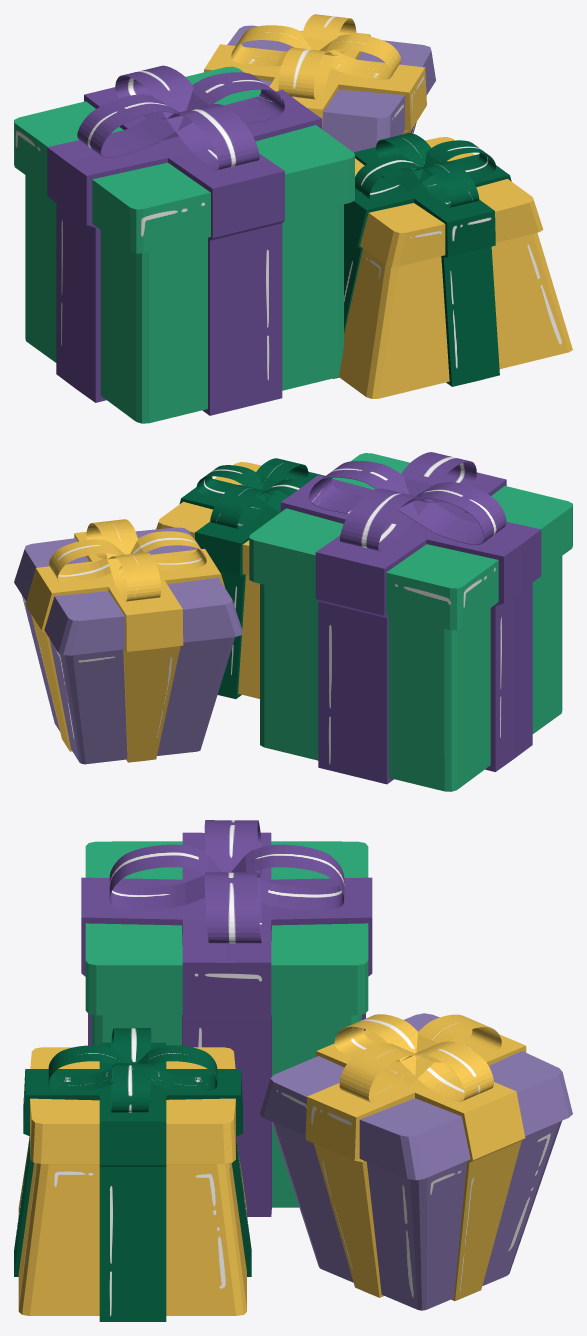
The model's file is scene6_gifts.glb.
3 views of the same model, one above another, from view 1: azimuth 30°, elevation 25°; view 2: azimuth 150°, elevation 25°; view 3: azimuth 270°, elevation 25° (orthographic). The views are drawn at different scales.
Parts seen in each view (by area): view 1: XmasGifts_02; view 2: XmasGifts_02; view 3: XmasGifts_02.
Boxes of the visible parts, x1=… form: XmasGifts_02: x1=14, y1=14, x2=572, y2=423; XmasGifts_02: x1=14, y1=452, x2=572, y2=791; XmasGifts_02: x1=14, y1=820, x2=572, y2=1321.
Bounding box in the file's own units: 1.65 × 0.9322 × 1.56.
Materials: 6 (6 with a texture image).
